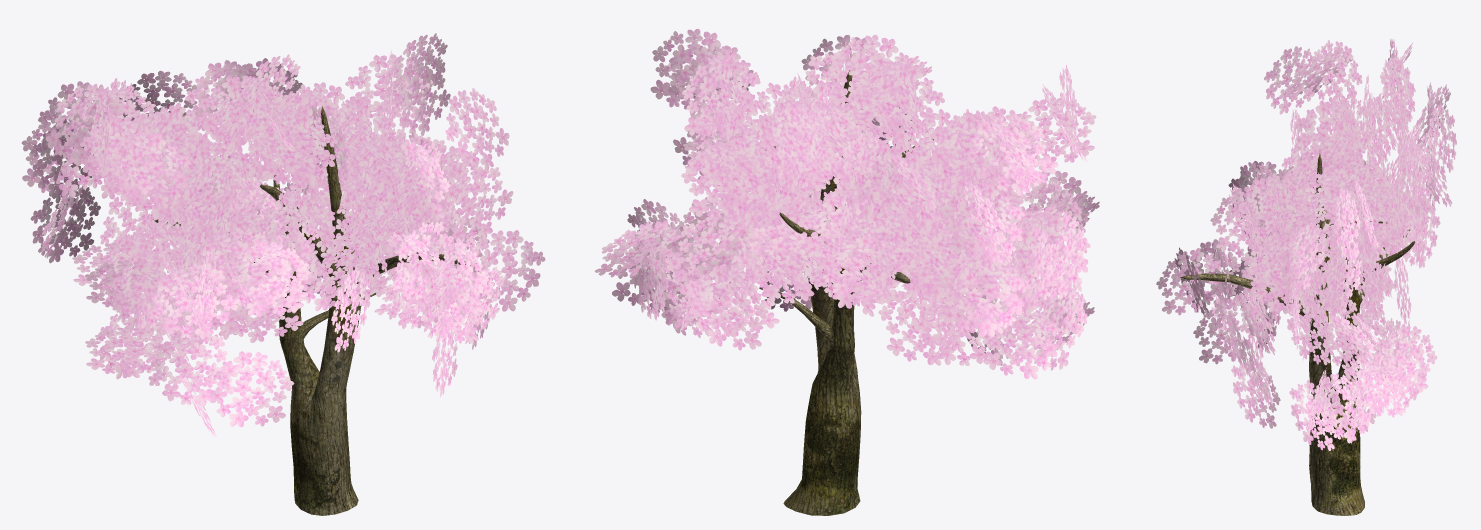
Rendered from tree7_1.FBX.
3 renders of one model, left to right at view 1: azimuth 30°, elevation 25°; view 2: azimuth 150°, elevation 25°; view 3: azimuth 270°, elevation 25°, orthographic. The views are drawn at different scales.
Visible parts, largest first — view 1: SakuraFlowers003, tree7uv; view 2: SakuraFlowers003, tree7uv; view 3: SakuraFlowers003, tree7uv.
Part boxes in pixels (x1=…): SakuraFlowers003: x1=21, y1=33, x2=545, y2=437; tree7uv: x1=151, y1=106, x2=470, y2=515; SakuraFlowers003: x1=594, y1=28, x2=1099, y2=379; tree7uv: x1=759, y1=70, x2=933, y2=515; SakuraFlowers003: x1=1156, y1=38, x2=1456, y2=450; tree7uv: x1=1180, y1=153, x2=1415, y2=515.
Size of the model in its own units: 359 by 248 by 336.
